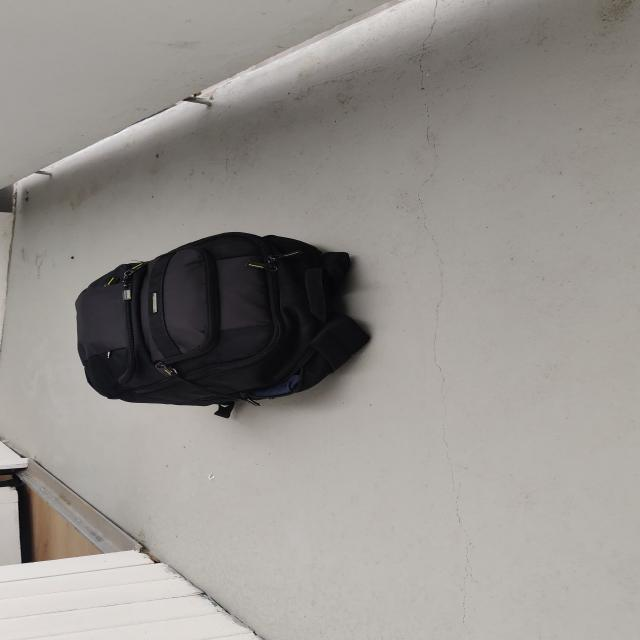backpack: (60, 223, 378, 415)
